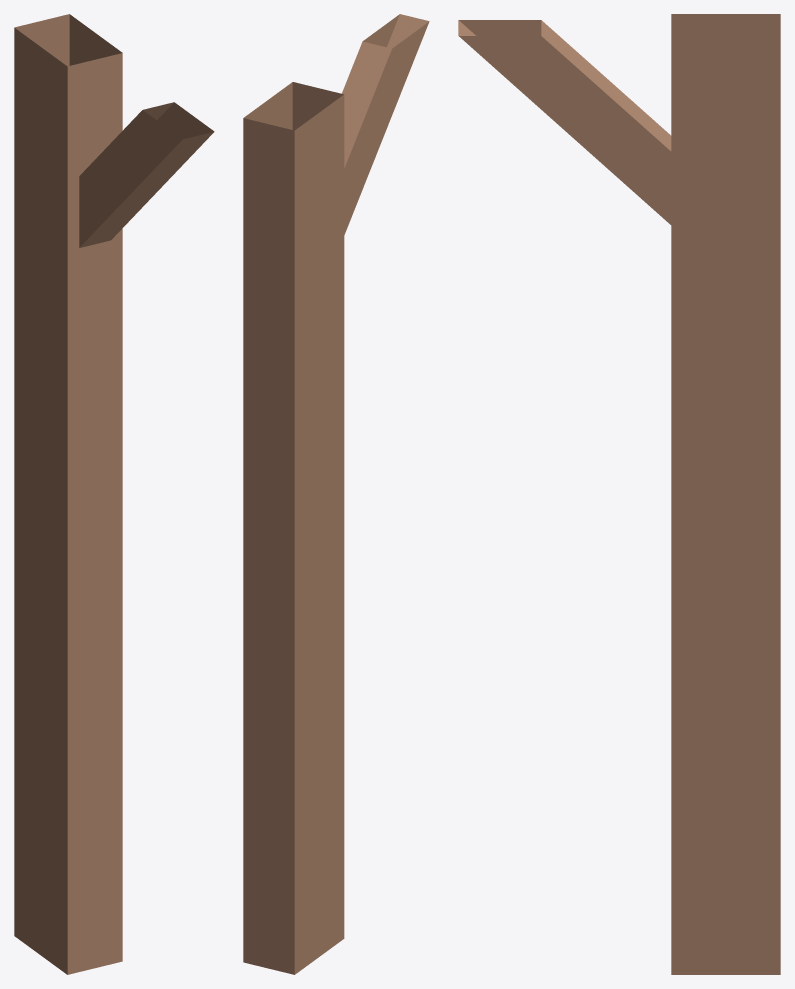
File: bridge_3_column_small.fbx
The picture shows the model from 3 angles, left to right: view 1: azimuth 30°, elevation 25°; view 2: azimuth 150°, elevation 25°; view 3: azimuth 270°, elevation 25°; orthographic projection. The views are drawn at different scales.
Visible parts, largest first — view 1: bridge_3_column_small; view 2: bridge_3_column_small; view 3: bridge_3_column_small.
Part boxes in pixels (left/top/right/bottom): bridge_3_column_small: left=14, top=14, right=214, bottom=974; bridge_3_column_small: left=243, top=14, right=429, bottom=974; bridge_3_column_small: left=458, top=14, right=780, bottom=974.
Bounding box in the file's own units: 0.5376 × 8.44 × 2.64.
